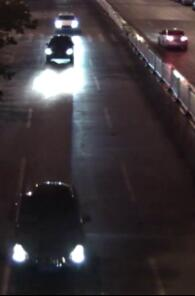car: (7, 176, 90, 282), (42, 31, 76, 65), (156, 27, 191, 49), (52, 8, 81, 33)
